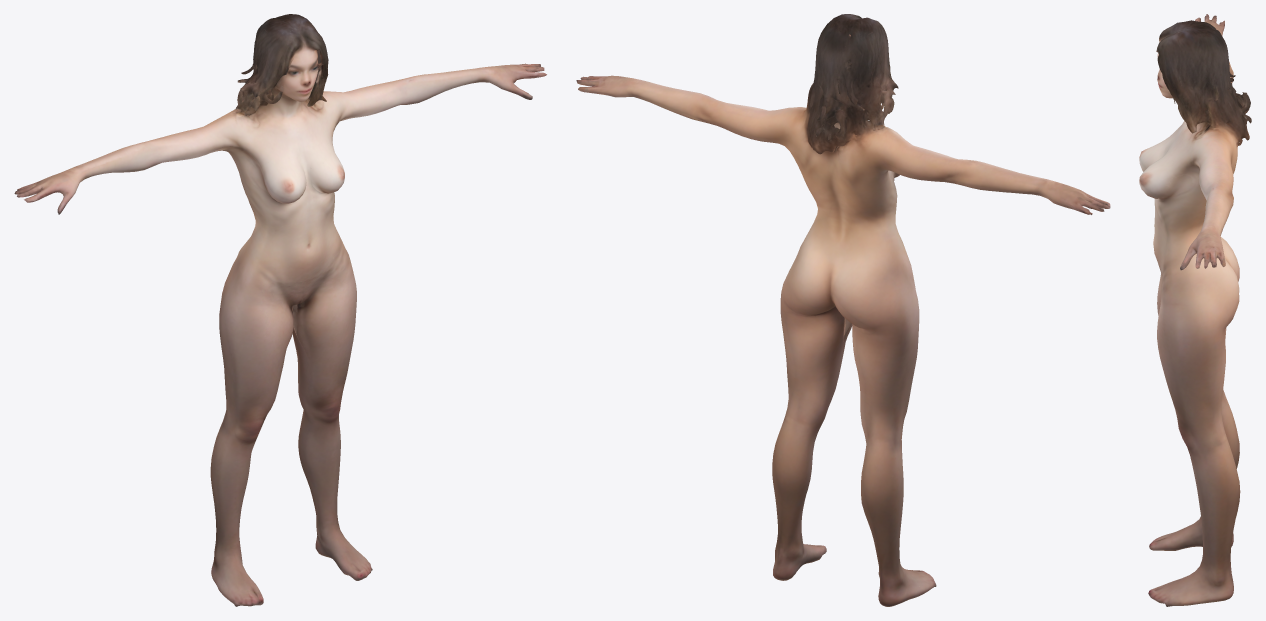
File: nude_girl_t_pose_0310125114_texture_fbx.glb
3 views of the same model, side by side, from view 1: azimuth 30°, elevation 25°; view 2: azimuth 150°, elevation 25°; view 3: azimuth 270°, elevation 25° (orthographic). The views are drawn at different scales.
Visible parts, largest first — view 1: Mesh1_Mesh1.131; view 2: Mesh1_Mesh1.131; view 3: Mesh1_Mesh1.131.
Boxes of the visible parts, <box> form: Mesh1_Mesh1.131: <box>14,14,546,606</box>; Mesh1_Mesh1.131: <box>576,14,1110,606</box>; Mesh1_Mesh1.131: <box>1139,14,1251,606</box>.
Size of the model in its own units: 1.97 by 2 by 0.3715.
1 material, 1 textured.
